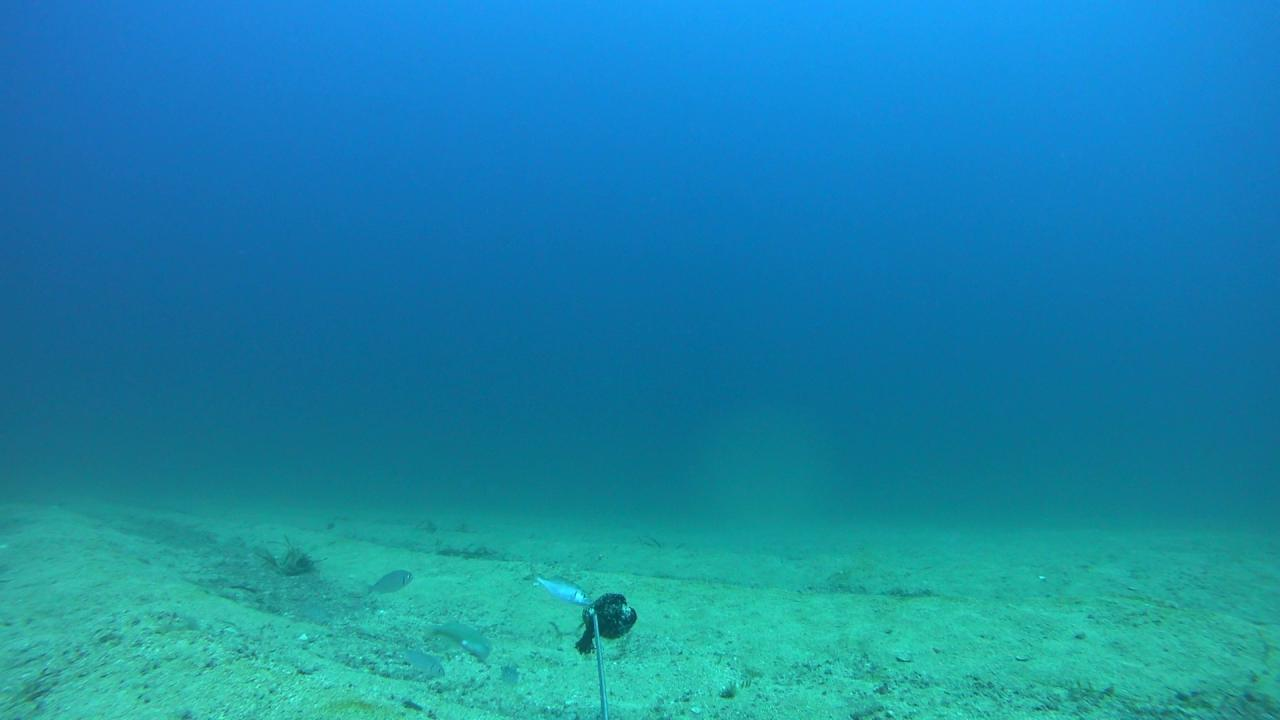pagellus: (524, 564, 592, 603), (360, 567, 411, 605)
